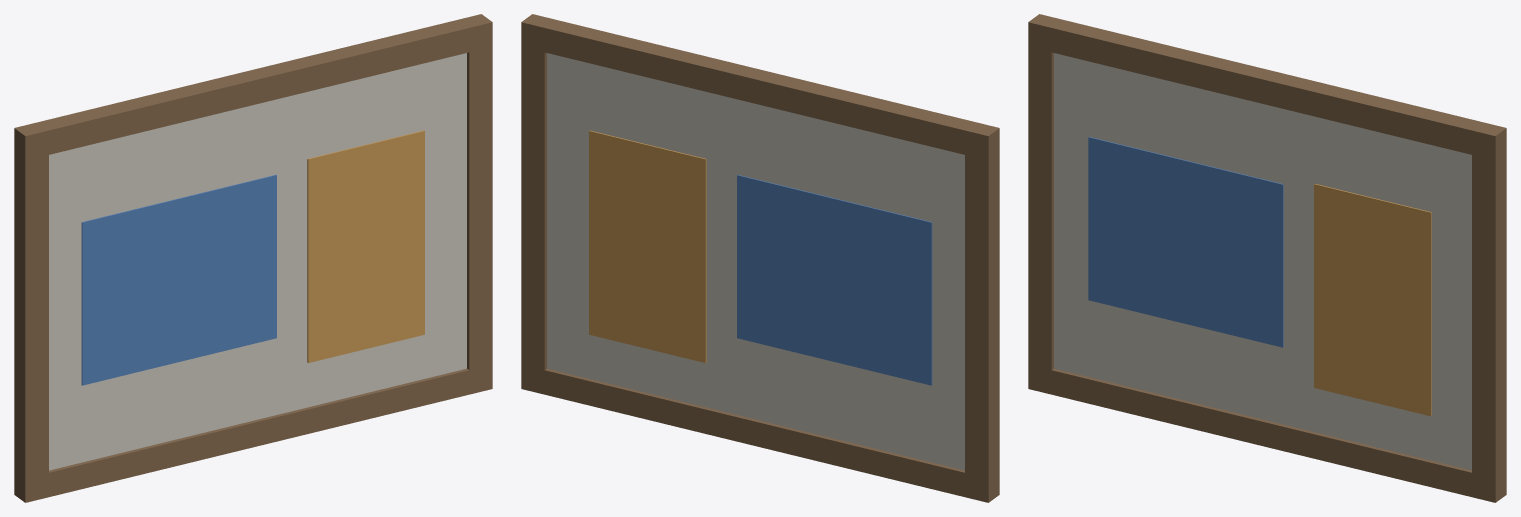
Rendered from arte_quadro_grande.glb.
3 renders of one model, left to right at view 1: azimuth 30°, elevation 25°; view 2: azimuth 150°, elevation 25°; view 3: azimuth 330°, elevation 25°, orthographic.
Visible parts, largest first — view 1: ARTE_QuadroGrande_v01; view 2: ARTE_QuadroGrande_v01; view 3: ARTE_QuadroGrande_v01.
Part boxes in pixels (x1,y1,x2,y2): ARTE_QuadroGrande_v01: (14, 14, 492, 502); ARTE_QuadroGrande_v01: (521, 14, 999, 502); ARTE_QuadroGrande_v01: (1028, 14, 1506, 502).
Size of the model in its own units: 1.2 by 0.9 by 0.05.
